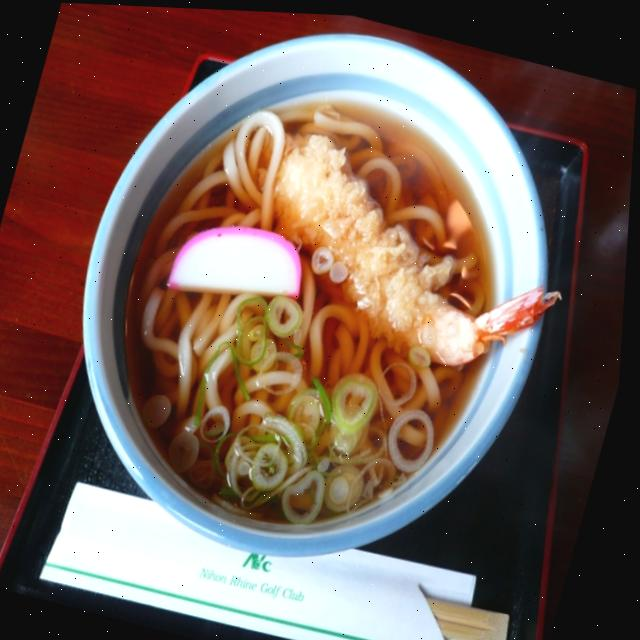面条主食: (70, 52, 550, 567)
